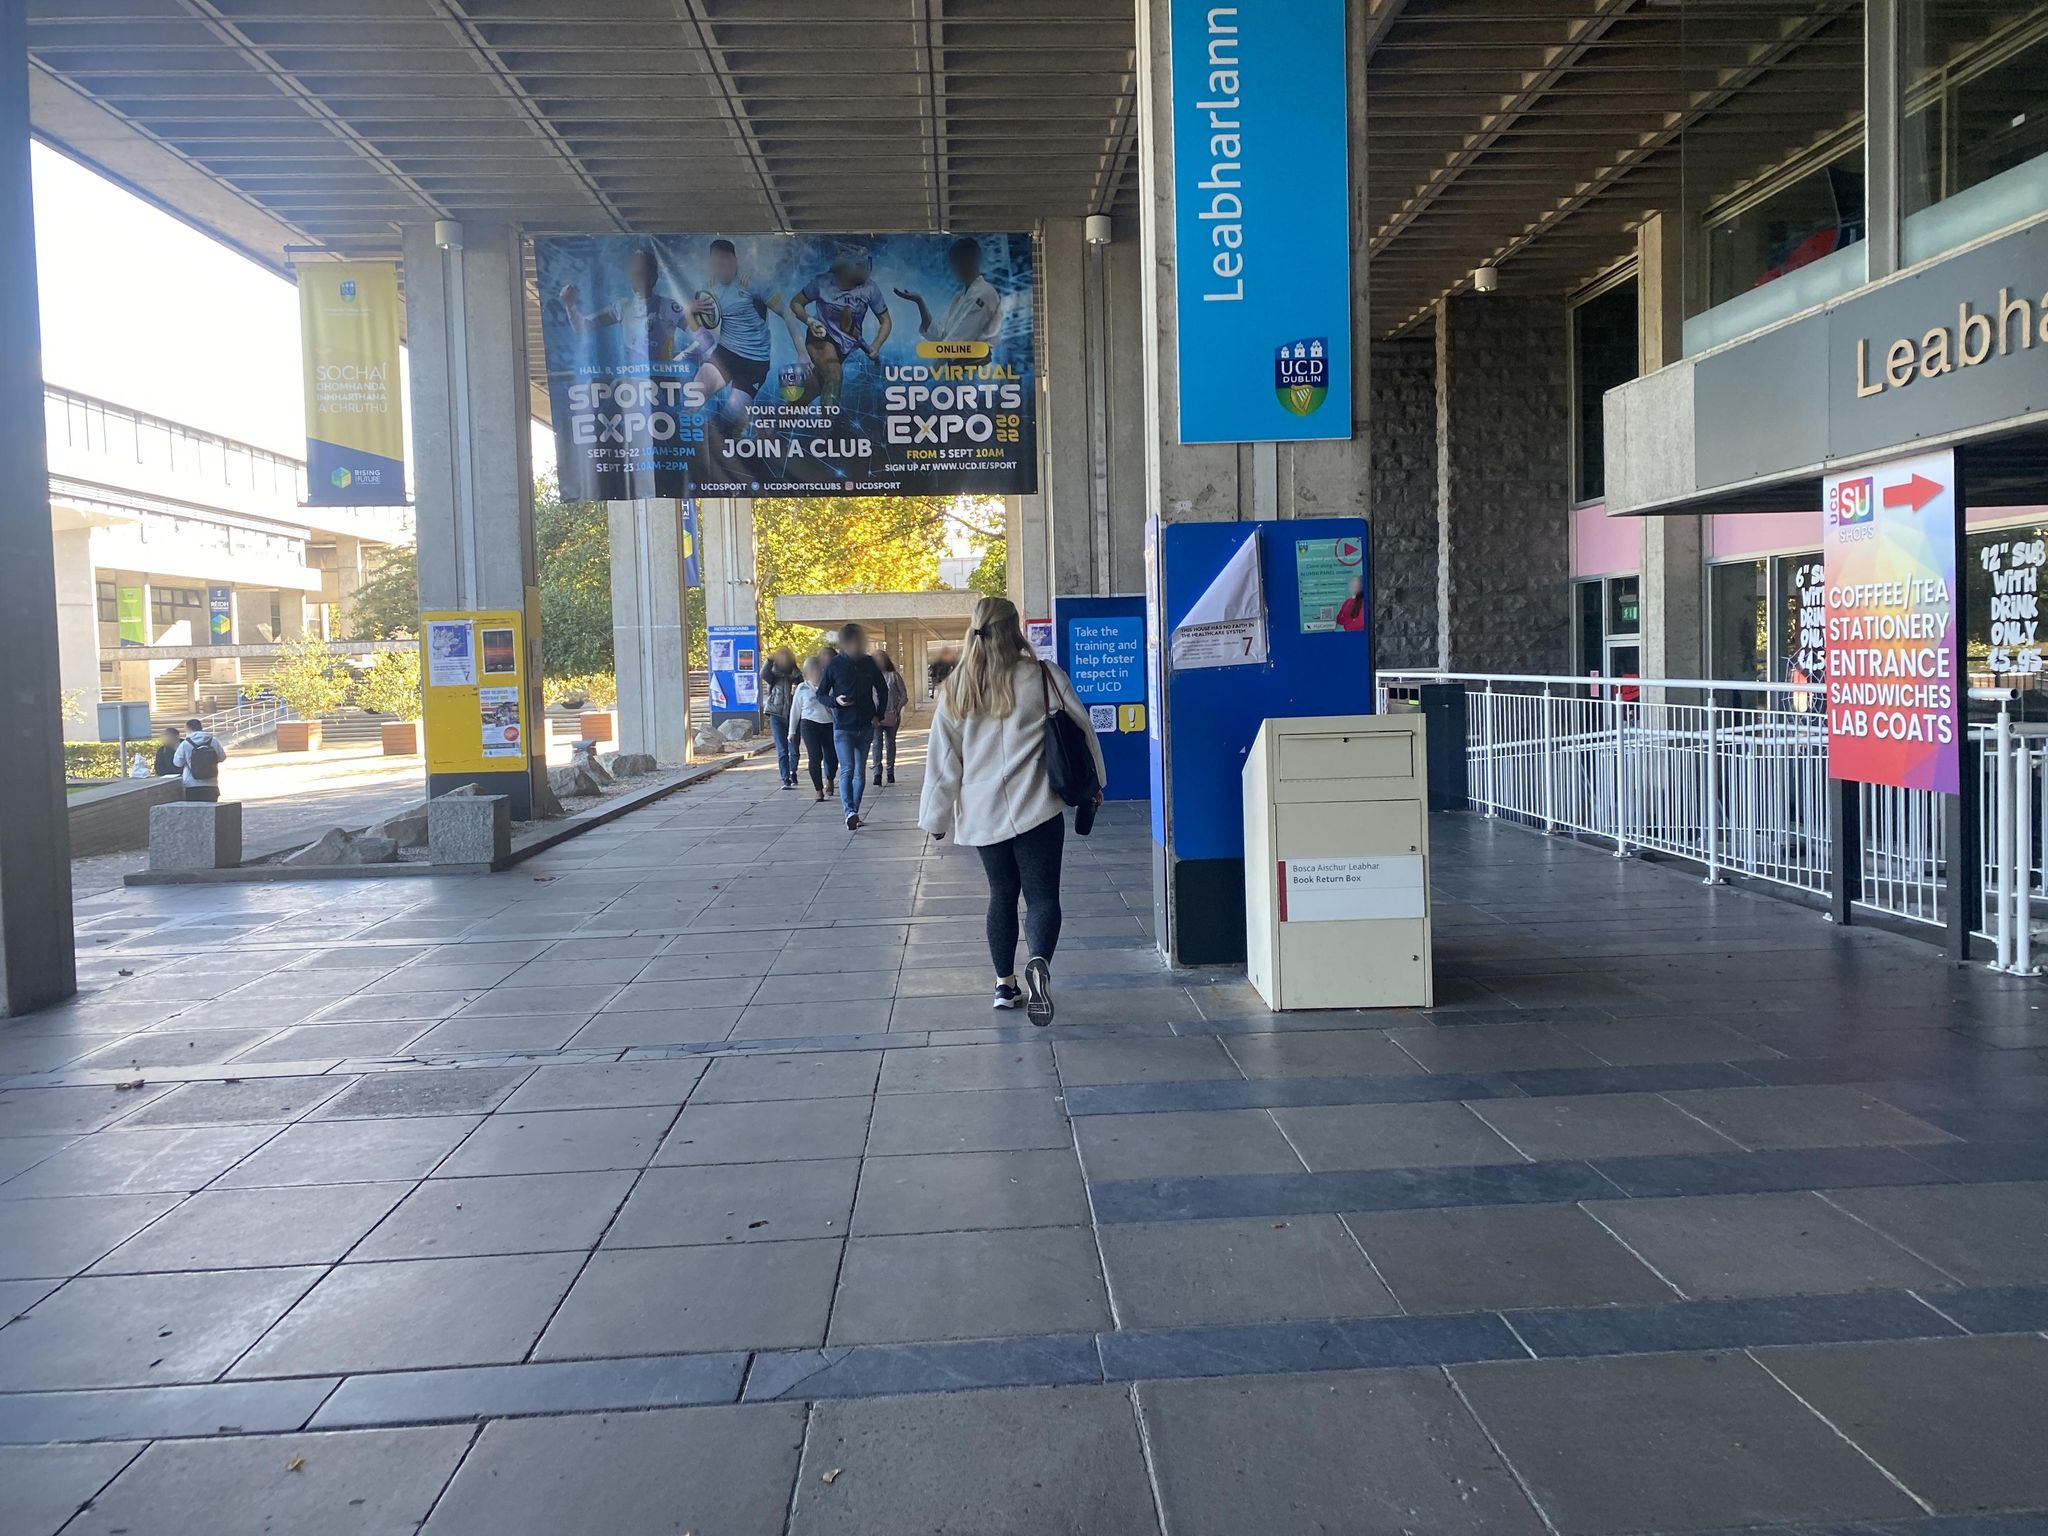vinyl banner: (534, 210, 1068, 518)
